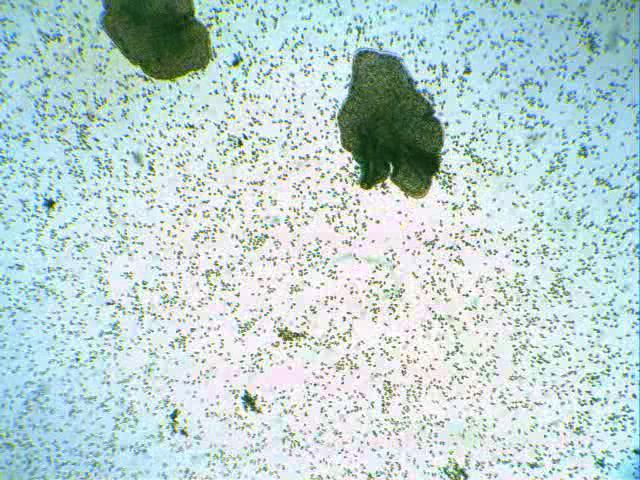Placozoan: (338, 48, 444, 198), (100, 0, 212, 78)
